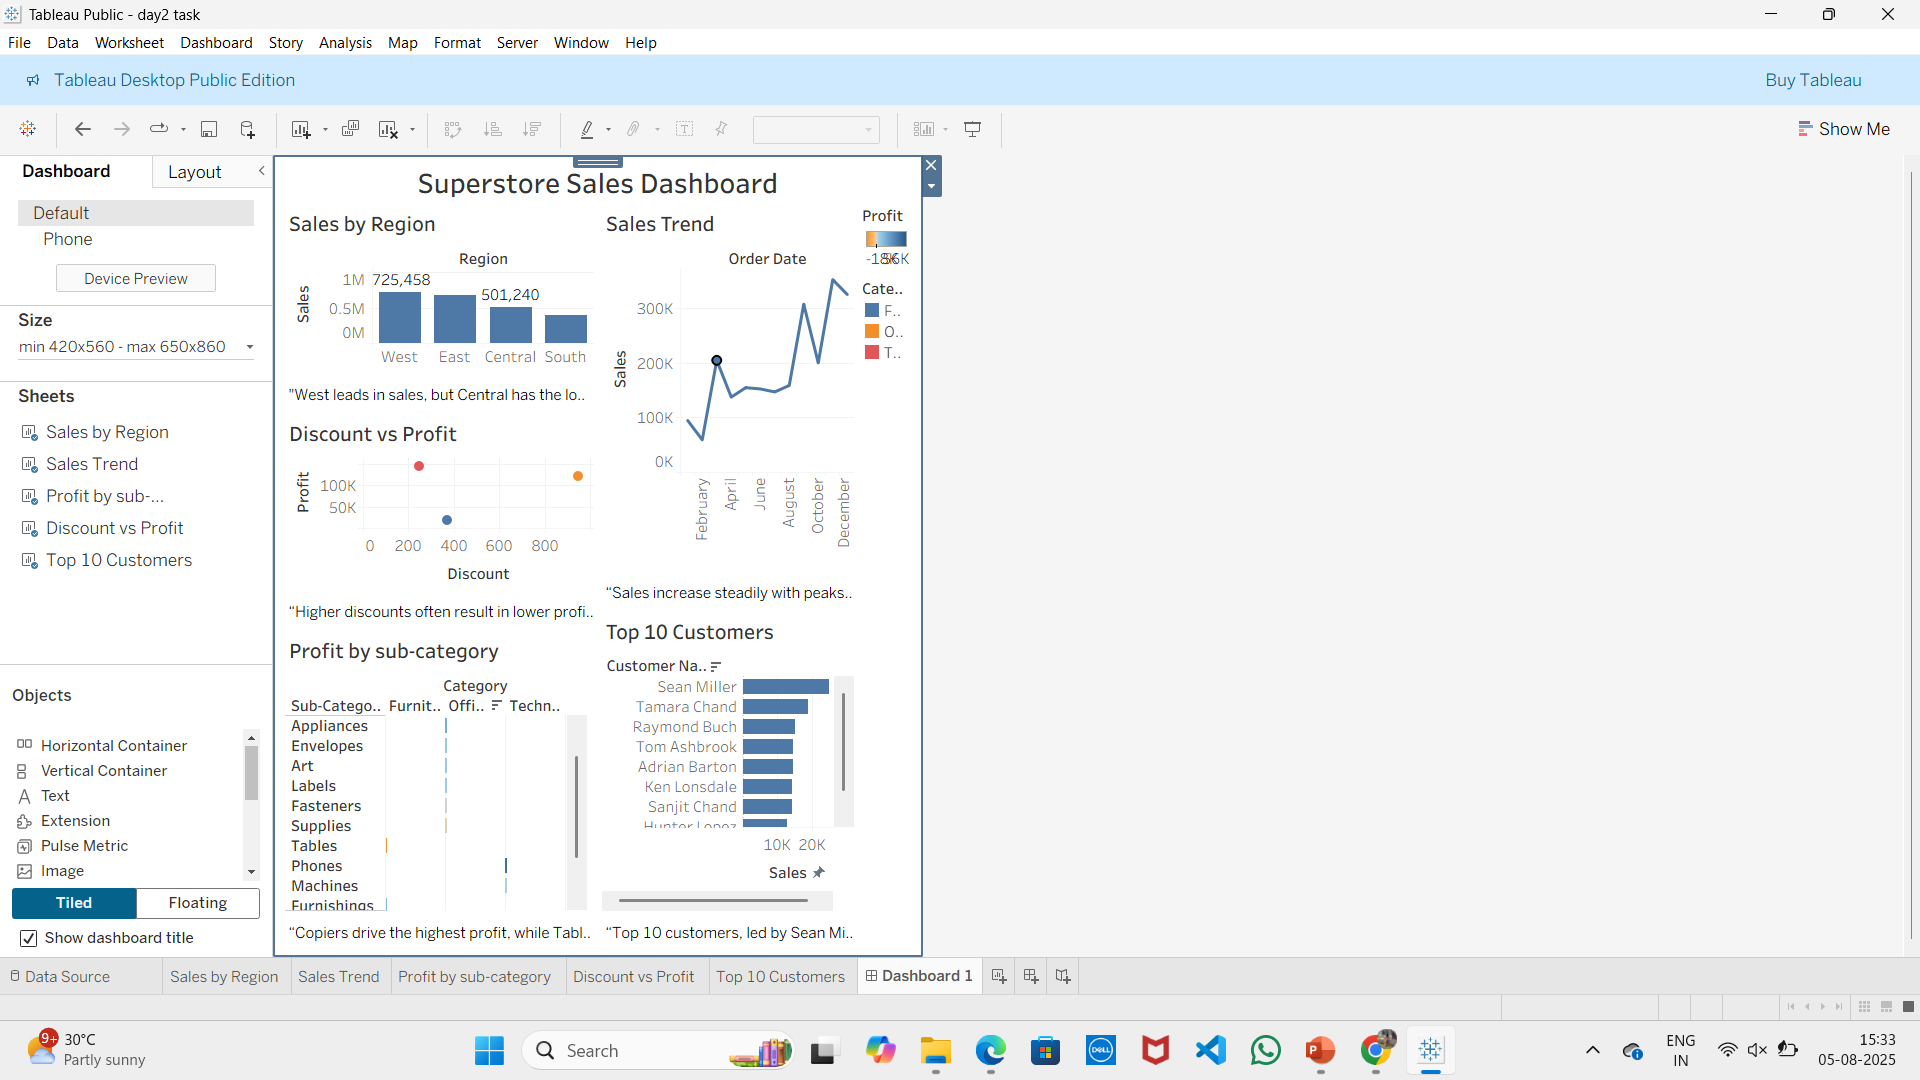

Layout of this report page (visuals, bound fields, positions):
{"tool":"tableau","page":{"name":"Dashboard 1","canvas":[650,860],"ordinal":0},"visuals":[{"type":"title","box":[8,8.7,634,41.3]},{"type":"worksheet","title":"Sales by Region","mark":"Automatic","rows":["Sales"],"cols":["Region"],"box":[8,49.9,317,190]},{"type":"worksheet","title":"Sales Trend","mark":"Line","rows":["Sales"],"cols":["Order Date"],"box":[325,49.9,260,401.8]},{"type":"legend","title":"Profit by sub-category","param":"[federated.1vn9kpz1bbserg11m00gc1n3wcwt].[sum:Profit:qk]","box":[585,49.9,57,79.3]},{"type":"legend","title":"Discount vs Profit","param":"[federated.1vn9kpz1bbserg11m00gc1n3wcwt].[none:Category:nk]","box":[585,129.2,57,101]},{"type":"text","box":[8,240,317,34.7]},{"type":"worksheet","title":"Discount vs Profit","mark":"Circle","rows":["Profit"],"cols":["Discount"],"box":[8,274.7,317,197.6]},{"type":"text","box":[325,451.7,260,35]},{"type":"text","box":[8,472.3,317,34.8]},{"type":"worksheet","title":"Top 10 Customers","mark":"Automatic","rows":["Customer Name"],"cols":["Sales"],"box":[325,486.7,260,327.7]},{"type":"worksheet","title":"Profit by sub-category","mark":"Bar","rows":["Sub-Category"],"cols":["Category"],"box":[8,507.1,317,307.3]},{"type":"text","box":[8,814.4,317,36.9]},{"type":"text","box":[325,814.4,260,36.9]}]}

Visuals, with their boxes on the page's 650x860 design canvas (x1, y1, x2, y2). These are canvas units, not pixel positions in the 1920x1080 screenshot, which may show the page scaled, cropped or inside an application window:
title: [left=8, top=9, right=642, bottom=50]
"Sales by Region" worksheet: [left=8, top=50, right=325, bottom=240]
"Sales Trend" worksheet (Line marks): [left=325, top=50, right=585, bottom=452]
"Profit by sub-category" legend: [left=585, top=50, right=642, bottom=129]
"Discount vs Profit" legend: [left=585, top=129, right=642, bottom=230]
text: [left=8, top=240, right=325, bottom=275]
"Discount vs Profit" worksheet (Circle marks): [left=8, top=275, right=325, bottom=472]
text: [left=325, top=452, right=585, bottom=487]
text: [left=8, top=472, right=325, bottom=507]
"Top 10 Customers" worksheet: [left=325, top=487, right=585, bottom=814]
"Profit by sub-category" worksheet (Bar marks): [left=8, top=507, right=325, bottom=814]
text: [left=8, top=814, right=325, bottom=851]
text: [left=325, top=814, right=585, bottom=851]
